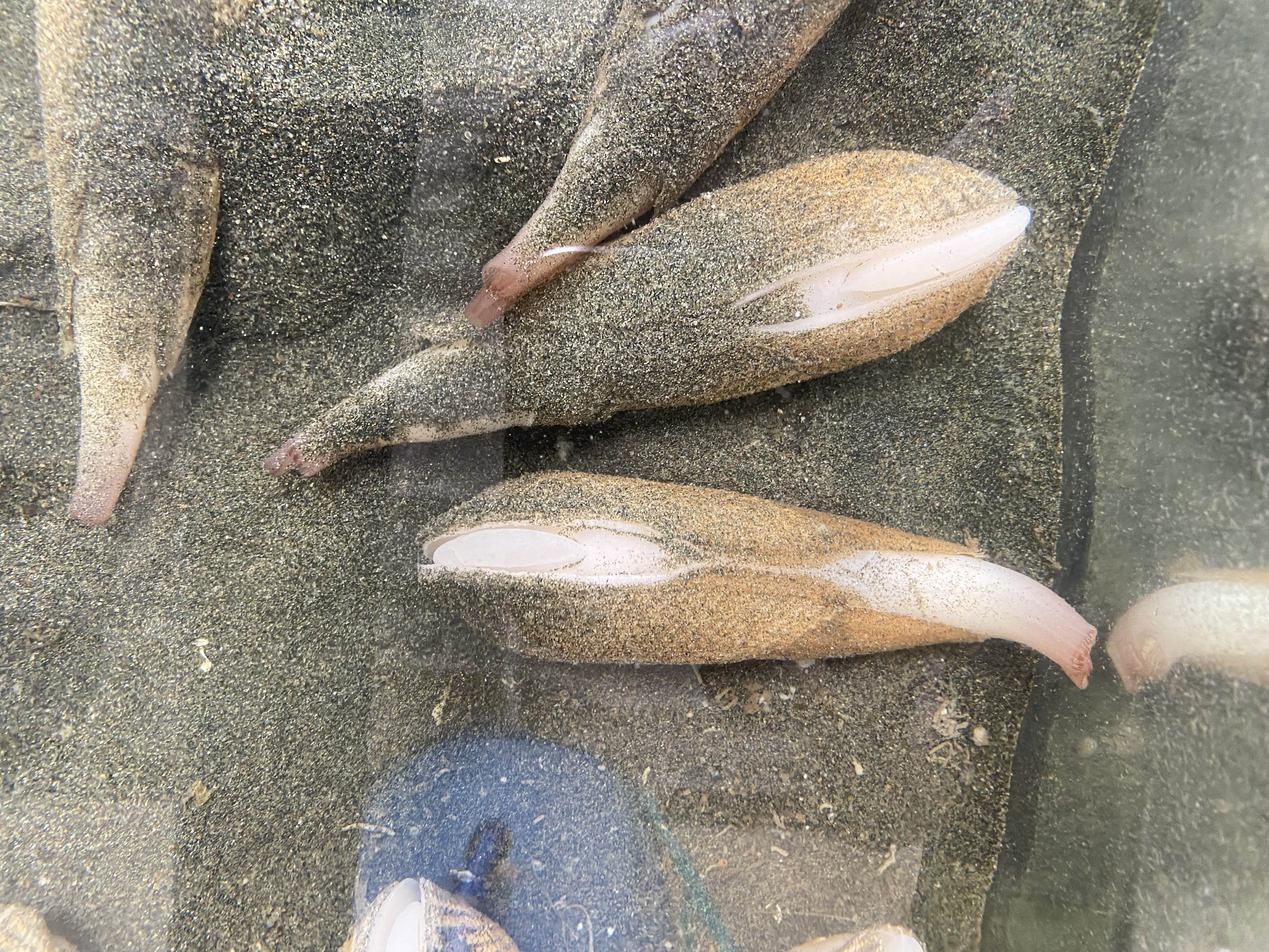Healthy: (274, 151, 1028, 471), (419, 472, 1095, 686), (465, 0, 848, 327), (36, 0, 242, 524)
